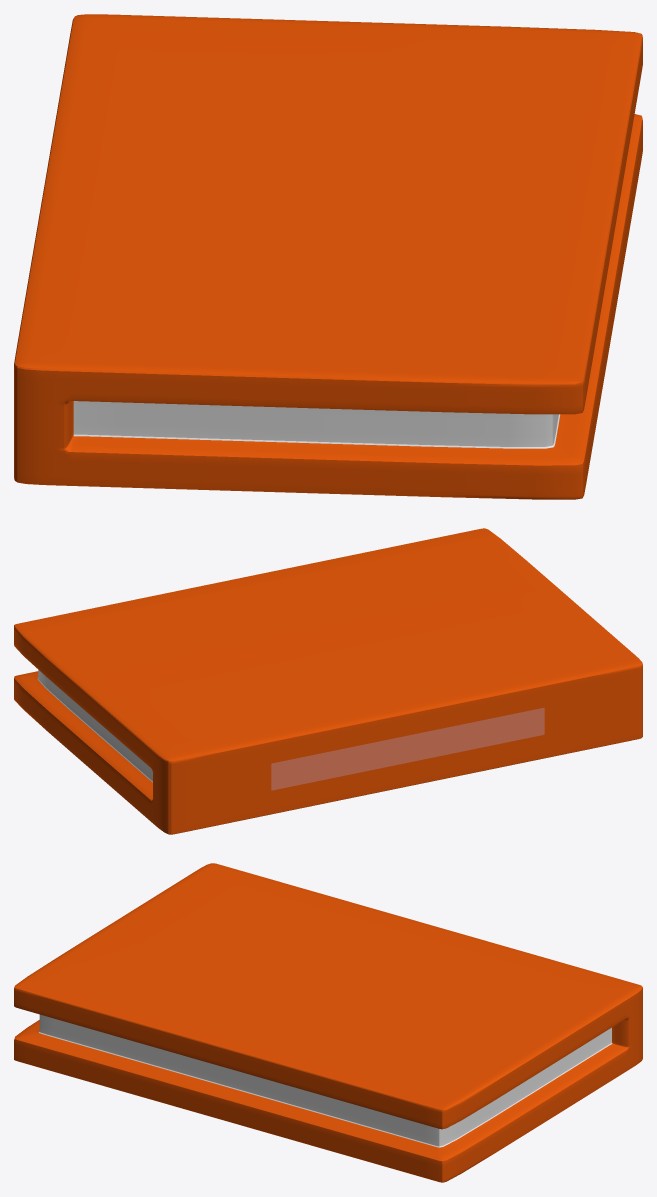
Rendered from Book Orange.fbx.
3 renders of one model, top to bottom at view 1: azimuth 30°, elevation 25°; view 2: azimuth 150°, elevation 25°; view 3: azimuth 270°, elevation 25°, orthographic. The views are drawn at different scales.
Visible parts, largest first — view 1: Cube.003; view 2: Cube.003; view 3: Cube.003.
Part boxes in pixels (x1,y1,x2,y2): Cube.003: (14, 14, 642, 499); Cube.003: (14, 528, 642, 834); Cube.003: (14, 863, 642, 1182).
Size of the model in its own units: 61.57 by 8.64 by 66.17.
